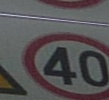Speed limit: (21, 27, 108, 92)
